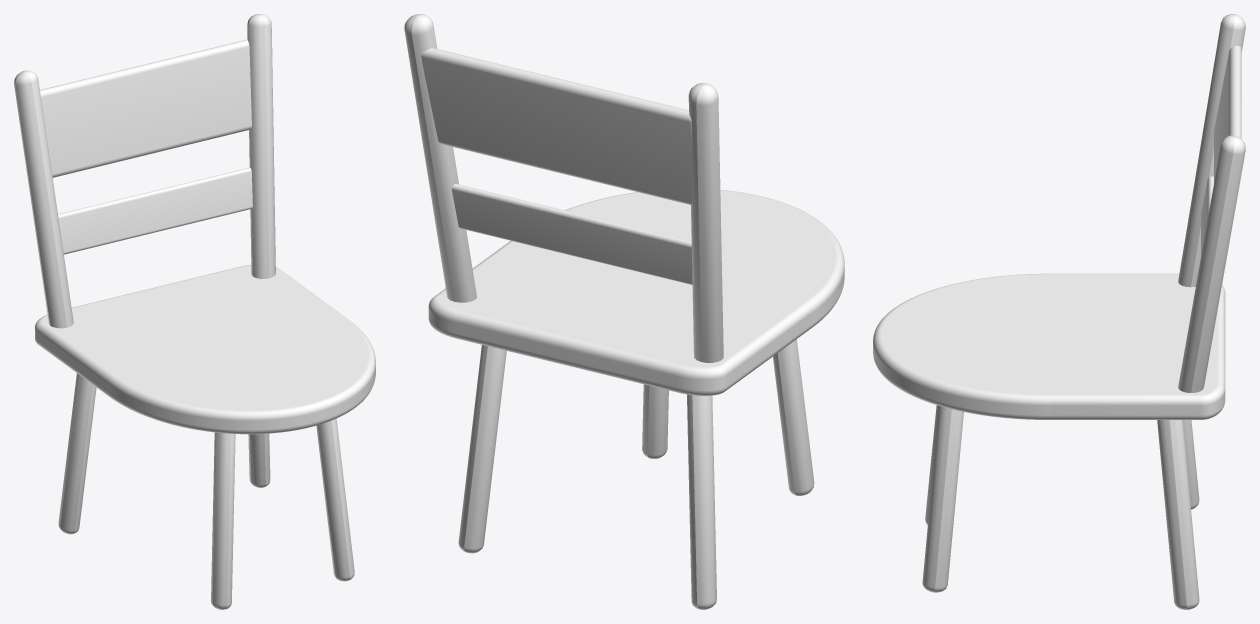
The model's file is Stuhl.fbx.
3 renders of one model, left to right at view 1: azimuth 30°, elevation 25°; view 2: azimuth 150°, elevation 25°; view 3: azimuth 270°, elevation 25°, orthographic. The views are drawn at different scales.
Parts seen in each view (by area): view 1: Stuhl_1; view 2: Stuhl_1; view 3: Stuhl_1.
Part boxes in pixels (bbox=[...]): Stuhl_1: bbox=[14, 14, 375, 609]; Stuhl_1: bbox=[404, 14, 844, 609]; Stuhl_1: bbox=[873, 14, 1245, 609].
Size of the model in its own units: 70.78 by 120 by 83.64.
